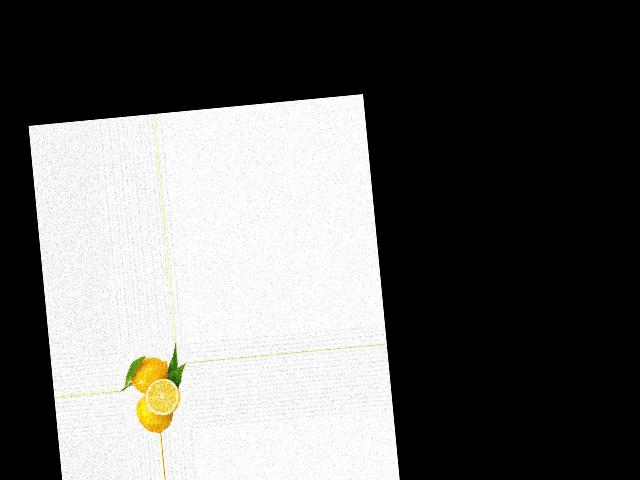lemon: (135, 394, 177, 435)
